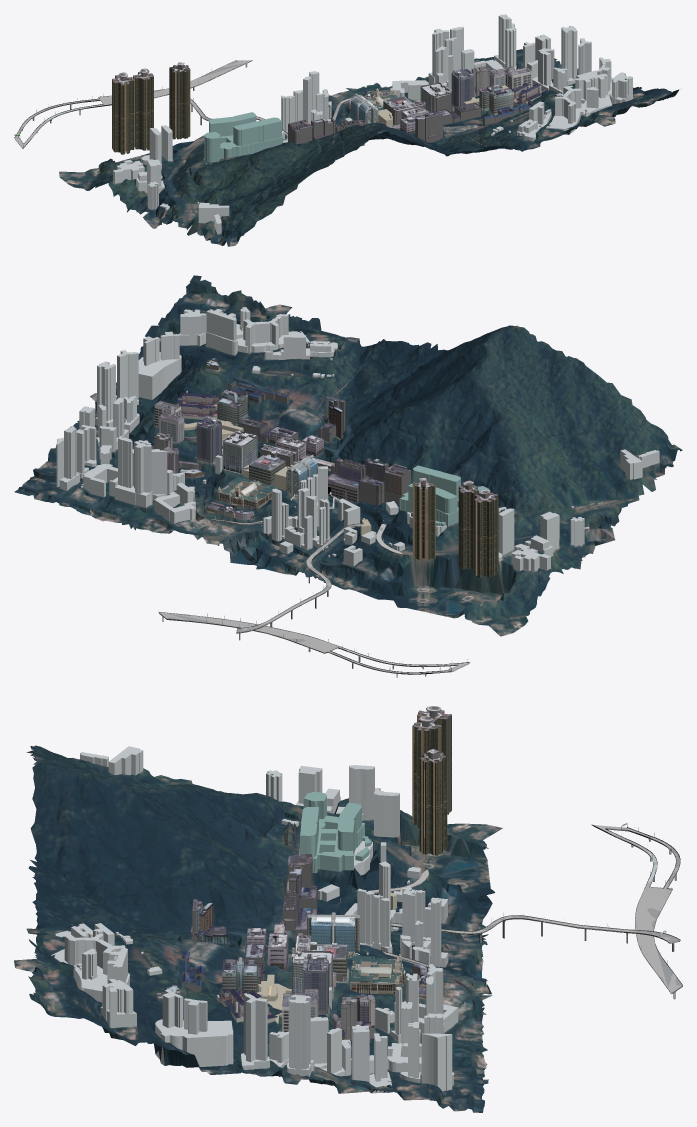
File: campus.glb
The picture shows the model from 3 angles, top to bottom: view 1: azimuth 30°, elevation 25°; view 2: azimuth 150°, elevation 25°; view 3: azimuth 270°, elevation 25°; orthographic projection. The views are drawn at different scales.
Parts seen in each view (by area): view 1: T31500156000106E1Z, T32250156000106E1Z, B317131620701062B0, B318421620401062B0, B317561619501062B0, T31500162000106E1Z, B31911160350106012, B31881160380206013, B32600160190106010, B323671604401062A0, B323051604801062D0, B322071589501063B0 (+25 smaller); view 2: T31500156000106E1Z, T32250156000106E1Z, T31500162000106E1Z, T32250162000106E1Z, B317131620701062B0, B318421620401062B0, B317561619501062B0, B32575158790206011, B322421612701062D0, B323051604801062D0, B323671604401062A0, B32583159600106011 (+22 smaller); view 3: T31500156000106E1Z, T32250156000106E1Z, T31500162000106E1Z, T32250162000106E1Z, B318421620401062B0, B32575158790206011, B322421612701062D0, B32572162040106012, B31881160380206013, B321671606601063A0, B32600160190106010, B32583159600106011 (+29 smaller).
Boxes of the visible parts, box(x1,y1,x2,y2) form: T31500156000106E1Z: box(86, 106, 509, 246); T32250156000106E1Z: box(405, 58, 679, 151); B317131620701062B0: box(112, 72, 134, 154); B318421620401062B0: box(169, 62, 190, 139); B317561619501062B0: box(133, 68, 153, 150); T31500162000106E1Z: box(59, 91, 354, 190); B31911160350106012: box(233, 117, 281, 145); B31881160380206013: box(204, 135, 283, 162); B32600160190106010: box(561, 25, 577, 80); B323671604401062A0: box(451, 68, 474, 106); B323051604801062D0: box(420, 82, 451, 112); B322071589501063B0: box(415, 113, 443, 142); T31500156000106E1Z: box(223, 325, 682, 614); T32250156000106E1Z: box(38, 275, 375, 516); T31500162000106E1Z: box(202, 516, 528, 636); T32250162000106E1Z: box(14, 468, 222, 539); B317131620701062B0: box(474, 489, 498, 577); B318421620401062B0: box(412, 477, 435, 561); B317561619501062B0: box(458, 480, 478, 570); B32575158790206011: box(138, 352, 181, 399); B322421612701062D0: box(217, 476, 276, 510); B323051604801062D0: box(223, 430, 257, 473); B323671604401062A0: box(196, 417, 221, 462); B32583159600106011: box(117, 350, 138, 399); T31500156000106E1Z: box(26, 745, 429, 981); T32250156000106E1Z: box(14, 911, 429, 1100); T31500162000106E1Z: box(429, 823, 502, 995); T32250162000106E1Z: box(429, 990, 492, 1112); B318421620401062B0: box(419, 748, 447, 855); B32575158790206011: box(155, 1019, 233, 1067); B322421612701062D0: box(350, 954, 405, 994); B32572162040106012: box(421, 1033, 452, 1091); B31881160380206013: box(299, 814, 364, 873); B321671606601063A0: box(307, 912, 359, 957); B32600160190106010: box(289, 995, 310, 1069); B32583159600106011: box(243, 993, 267, 1061).
Size of the model in its own units: 1031 by 266 by 919.
71 materials, 59 textured.
